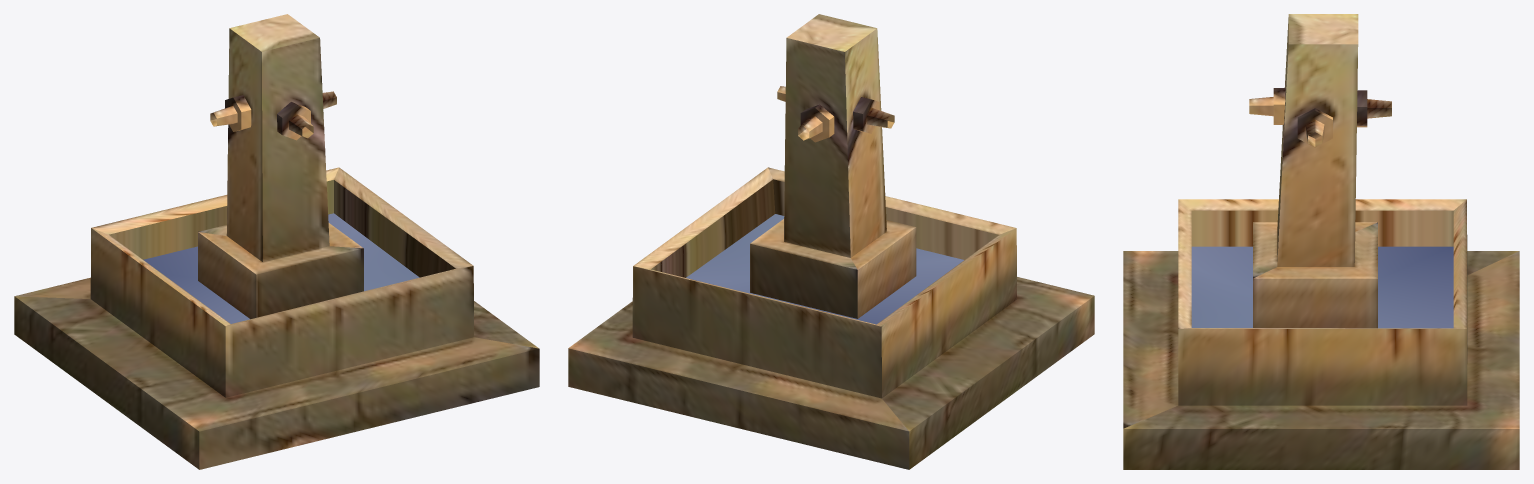
File: well1.glb
The picture shows the model from 3 angles, left to right: view 1: azimuth 30°, elevation 25°; view 2: azimuth 150°, elevation 25°; view 3: azimuth 270°, elevation 25°; orthographic projection. The views are drawn at different scales.
Visible parts, largest first — view 1: well; view 2: well; view 3: well.
Part boxes in pixels (left/top/right/bottom): well: left=14, top=14, right=539, bottom=469; well: left=568, top=14, right=1094, bottom=469; well: left=1123, top=14, right=1519, bottom=469.
Bounding box in the file's own units: 0.9004 × 0.8287 × 0.8483.
1 material, 1 textured.
